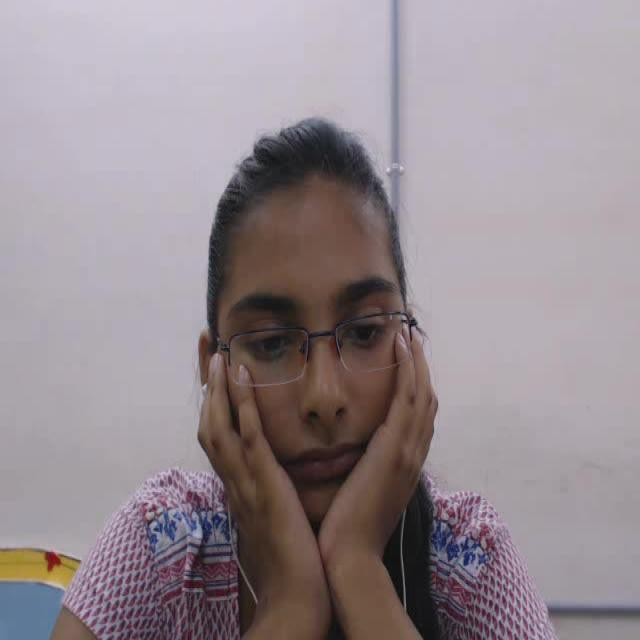Bored: (176, 99, 484, 573)
